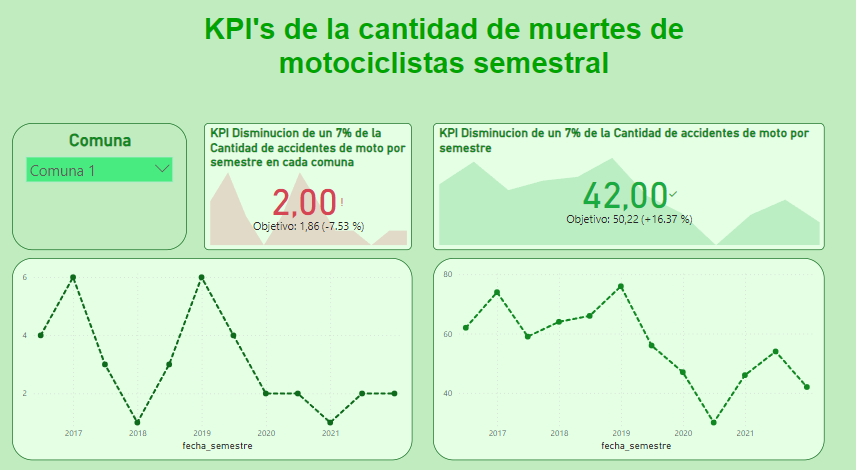

This screenshot's page, from the dashboard's own definition file:
{"tool":"powerbi","page":{"name":"kpi_2","canvas":[1280,720],"ordinal":5},"visuals":[{"type":"lineChart","fields":{"Category":["cantidad_muertes_motos.fecha_semestre.Variación.Jerarquía de fechas.Año"],"Y":["Avg(cantidad_muertes_motos.cantidad_victimas_total)"]},"box":[640.8,388.9,573.1,296],"z":0},{"type":"kpi","title":"KPI Disminucion de un 7% de la Cantidad de accidentes de moto por semestre","fields":{"TrendLine":["cantidad_muertes_motos.fecha_semestre"],"Indicator":["Avg(cantidad_muertes_motos.cantidad_victimas_total)"],"Goal":["Avg(cantidad_muertes_motos.objetivo_total)"]},"box":[640.8,192.1,573.1,185.8],"z":1000},{"type":"lineChart","fields":{"Category":["cantidad_muertes_motos.fecha_semestre.Variación.Jerarquía de fechas.Año"],"Y":["Avg(cantidad_muertes_motos.cantidad victimas)"]},"box":[25.2,388.9,585.7,296],"z":2000},{"type":"kpi","title":"KPI Disminucion de un 7% de la Cantidad de accidentes de moto por semestre en cada comuna","fields":{"TrendLine":["cantidad_muertes_motos.fecha_semestre"],"Indicator":["Avg(cantidad_muertes_motos.cantidad victimas)"],"Goal":["Avg(cantidad_muertes_motos.objetivo_comunal)"]},"box":[305.4,206.2,305.4,155.9],"z":3000},{"type":"slicer","title":"Comuna","fields":{"Values":["cantidad_muertes_motos.comuna"]},"box":[48.8,233,233,102.3],"z":4000},{"type":"textbox","box":[196.8,25.2,856.5,129.1],"z":5000}]}

Visuals, with their boxes in screenshot pixels (x1, y1, x2, y2), scaled from the page's 1280x720 canvas onto the 856x470 screenshot:
lineChart - cantidad_muertes_motos.fecha_semestre.Variación.Jerarquía de fechas.Año x Avg(cantidad_muertes_motos.cantidad_victimas_total): (left=429, top=254, right=812, bottom=447)
"KPI Disminucion de un 7% de la Cantidad de accidentes de moto por semestre" kpi: (left=429, top=125, right=812, bottom=247)
lineChart - cantidad_muertes_motos.fecha_semestre.Variación.Jerarquía de fechas.Año x Avg(cantidad_muertes_motos.cantidad victimas): (left=17, top=254, right=409, bottom=447)
"KPI Disminucion de un 7% de la Cantidad de accidentes de moto por semestre en cada comuna" kpi: (left=204, top=135, right=408, bottom=236)
"Comuna" slicer: (left=33, top=152, right=188, bottom=219)
textbox: (left=132, top=16, right=704, bottom=101)
